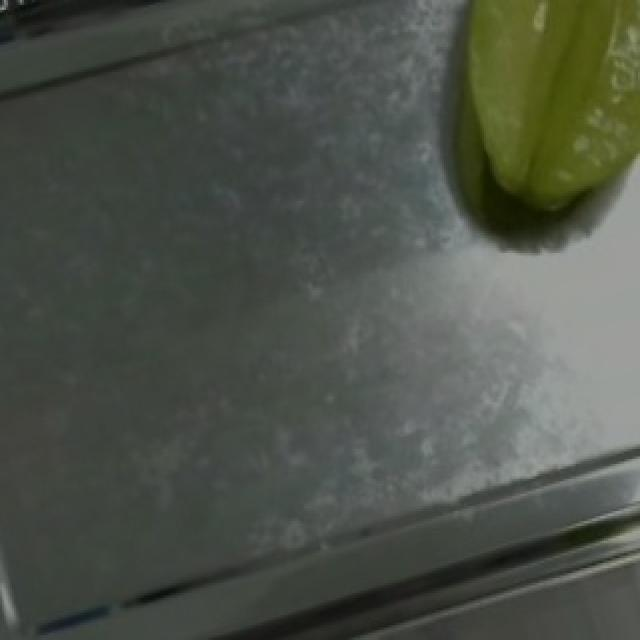fruit: (422, 0, 640, 243)
